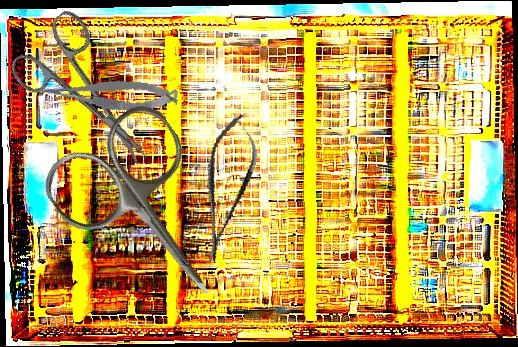Iris Scissors: (34, 95, 263, 336), (1, 5, 175, 192)
Micro Scissor: (186, 110, 266, 267), (36, 67, 180, 119)
